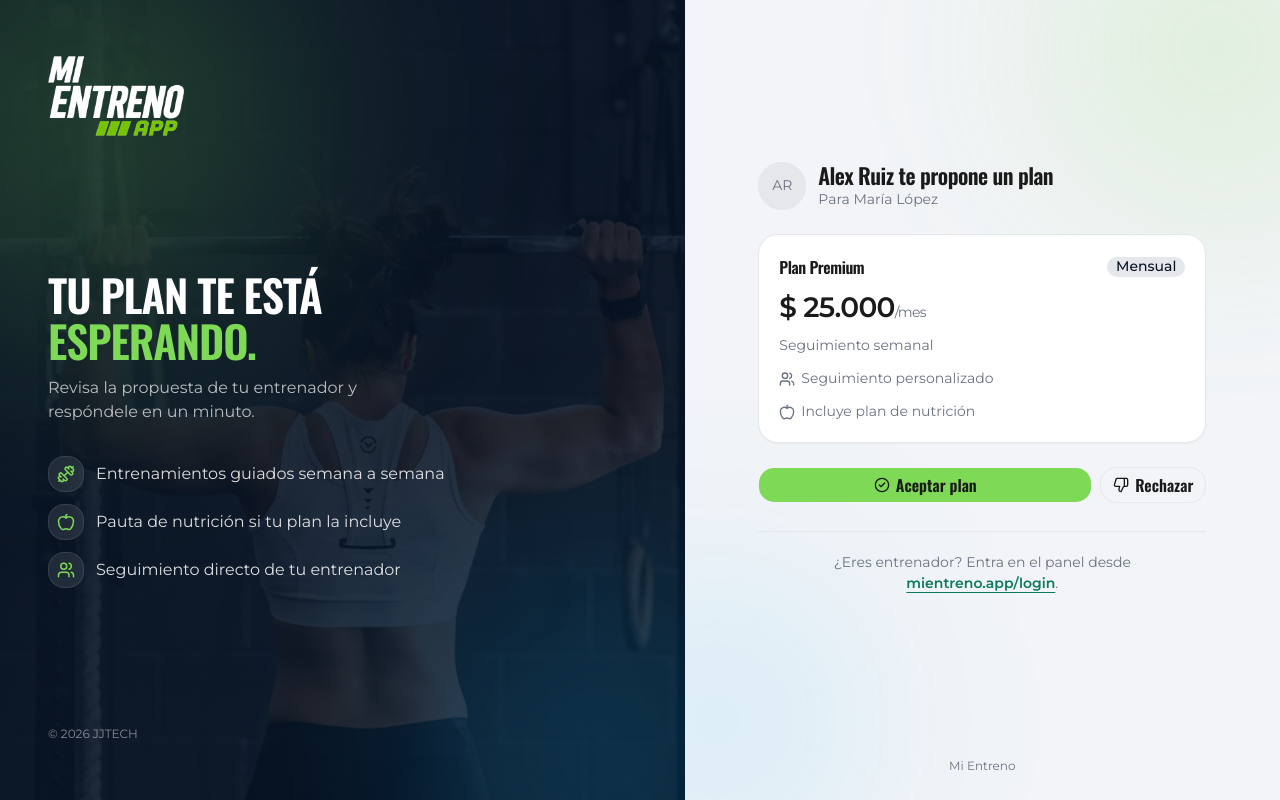
it: InvitationResponseScreen › says the trainer cannot charge yet when there is no checkout to send them to
This screenshot has width=1280, height=800.
Step 1. Click the button "Aceptar plan" → click(925, 485), box [758,467,1092,503]
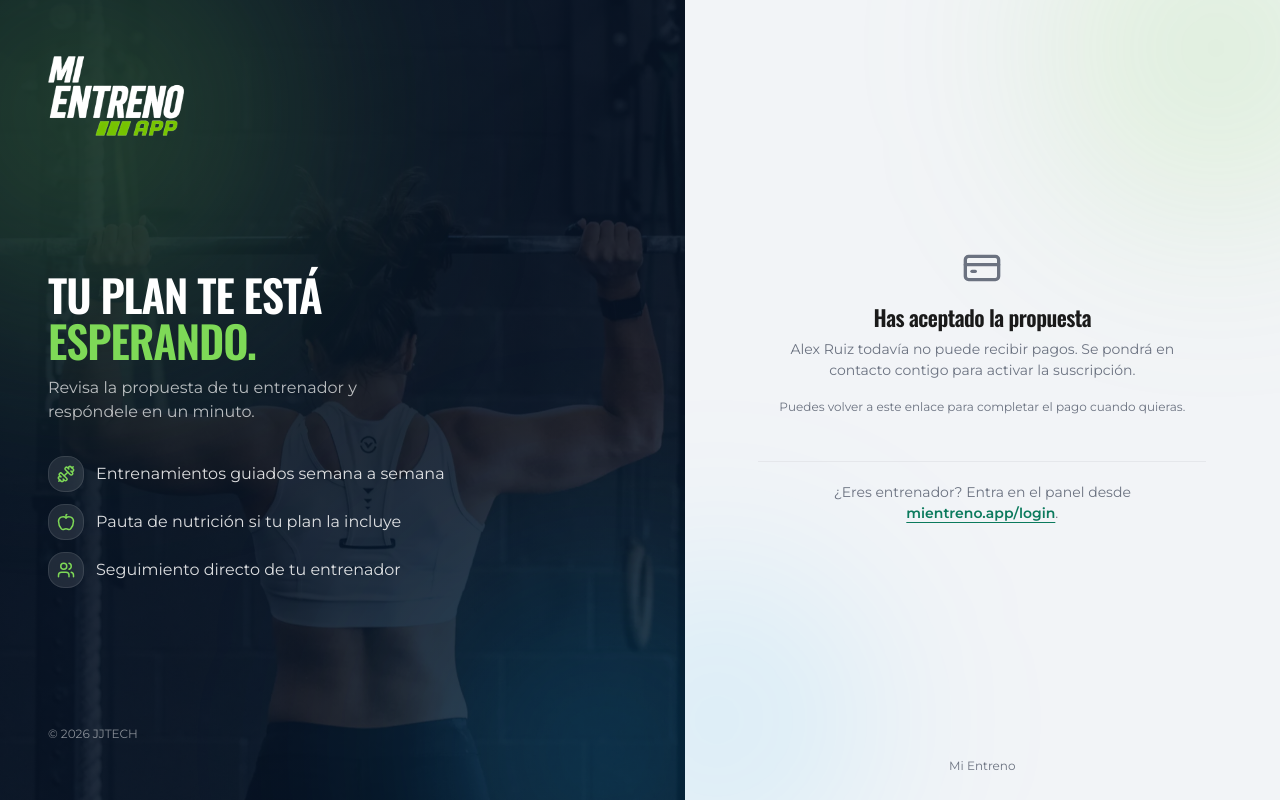
Expected: the text "todavía no puede recibir pagos" is shown, [790,340,1174,379]
